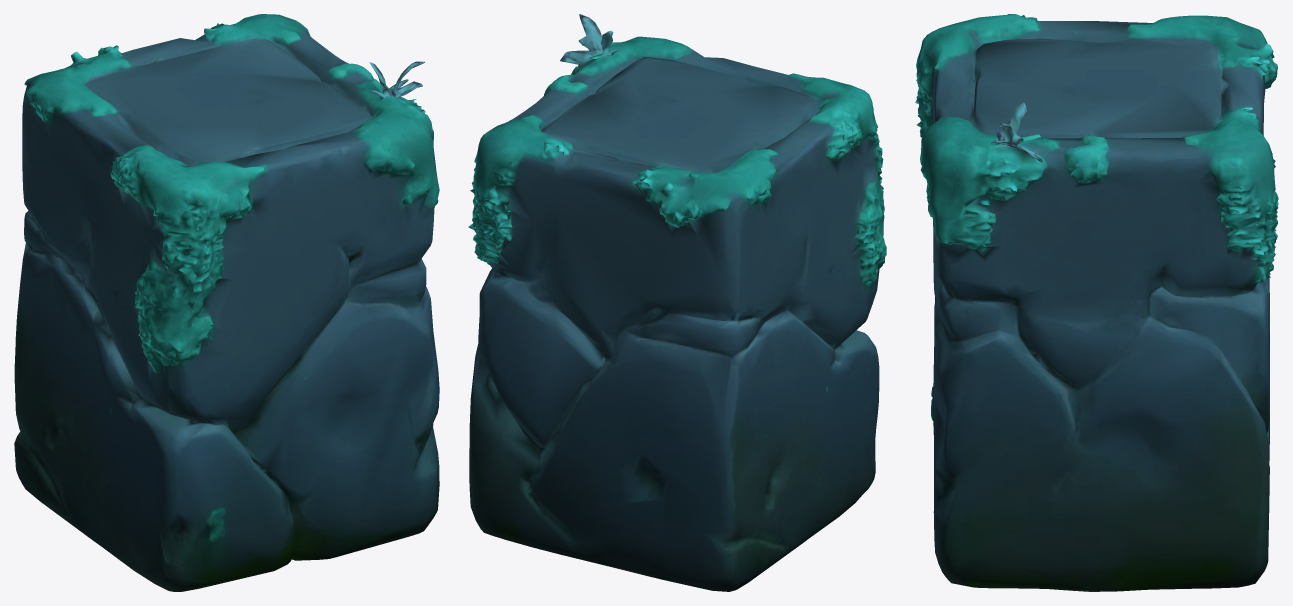
3 views of the same model, side by side, from view 1: azimuth 30°, elevation 25°; view 2: azimuth 150°, elevation 25°; view 3: azimuth 270°, elevation 25° (orthographic). The views are drawn at different scales.
Parts seen in each view (by area): view 1: world; view 2: world; view 3: world.
Part boxes in pixels (x1=…): world: x1=14, y1=14, x2=439, y2=591; world: x1=468, y1=14, x2=886, y2=591; world: x1=915, y1=14, x2=1278, y2=591.
Bounding box in the file's own units: 0.6845 × 0.9913 × 0.6862.
Materials: 1 (1 with a texture image).
